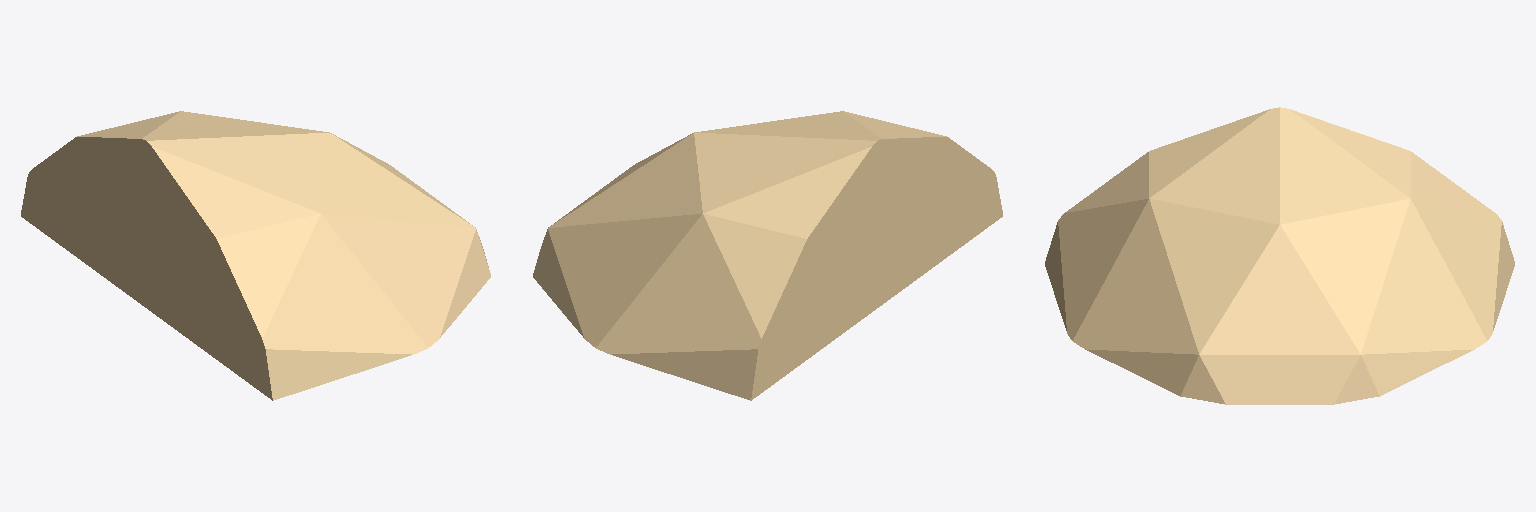
URDF robot description (potato1):
<?xml version="1.0"?>
<robot name="potato1"
       xmlns:xi="http://www.w3.org/2001/XInclude">
  <gazebo>
    <static>false</static>
  </gazebo>
  <link name="nil_link">
    <visual>
      <origin xyz="0 0 0" rpy="0 -0 0"/>
      <geometry>
        <mesh filename="model://potato1/meshes/nil_link_mesh.dae" scale="1 1 1" />
      </geometry>
    </visual>
    <collision>
      <origin xyz="0 0 0" rpy="0 -0 0"/>
      <geometry>
        <mesh filename="model://potato1/meshes/nil_link_mesh.dae" scale="1 1 1" />
      </geometry>
    </collision>
    <inertial>
      <mass value="0.001" />
      <origin xyz="0 0 0" rpy="0 -0 0"/>
      <inertia ixx="1e-03" ixy="0" ixz="0" iyy="1e-03" iyz="0" izz="1e-03"/>
    </inertial>
  </link>
  <gazebo reference="nil_link">
    <mu1>0.9</mu1>
    <mu2>0.9</mu2>
  </gazebo>
</robot>

--- Render facts (derived) ---
3 views of the same robot in one strip: view 1: azimuth 30°, elevation 25°; view 2: azimuth 150°, elevation 25°; view 3: azimuth 270°, elevation 25° (orthographic).
Model potato1 with 1 links and 0 joints (none), rooted at nil_link, posed every joint at zero.
Visible links, largest first — view 1: nil_link; view 2: nil_link; view 3: nil_link.
Boxes of the visible links, left/top/right/bottom form: nil_link: left=21, top=111, right=490, bottom=400; nil_link: left=533, top=111, right=1002, bottom=400; nil_link: left=1045, top=107, right=1514, bottom=404.
Size in the robot's own frame: 0.0383 by 0.054 by 0.0198 metres.
Meshes: 1 distinct files referenced, 1 mesh visuals loaded (1 Collada DAE).